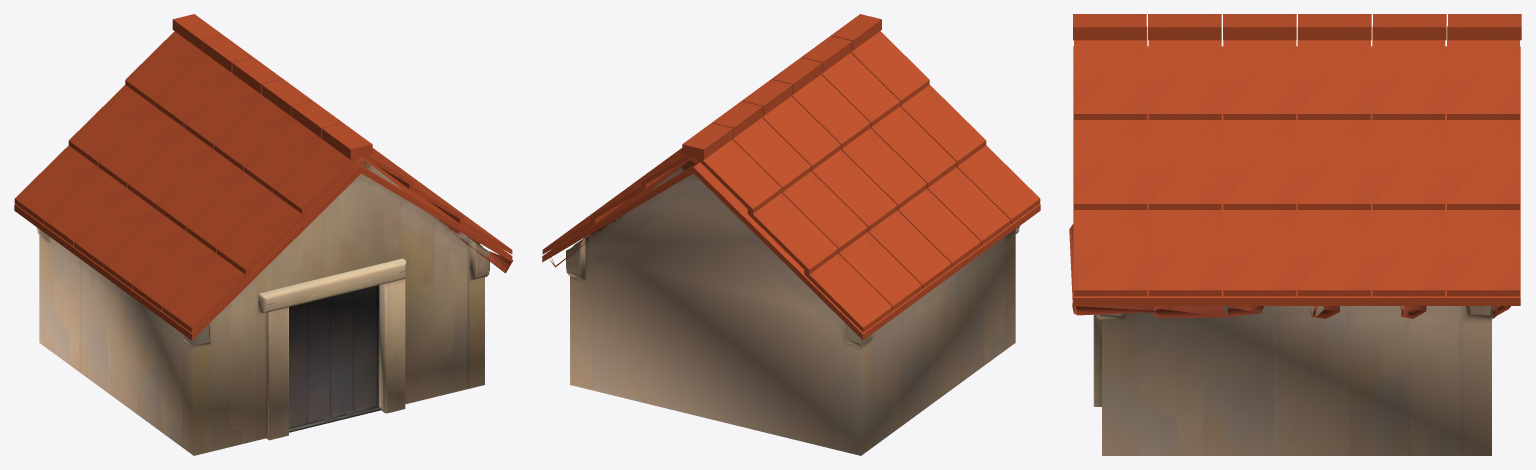
The model's file is barn.glb.
3 renders of one model, left to right at view 1: azimuth 30°, elevation 25°; view 2: azimuth 150°, elevation 25°; view 3: azimuth 270°, elevation 25°, orthographic. The views are drawn at different scales.
Parts seen in each view (by area): view 1: tripo_node_ca86e56c-c080-408d-957f-d0eb0e756dc3; view 2: tripo_node_ca86e56c-c080-408d-957f-d0eb0e756dc3; view 3: tripo_node_ca86e56c-c080-408d-957f-d0eb0e756dc3.
Boxes of the visible parts, box(x1,y1,x2,y2) form: tripo_node_ca86e56c-c080-408d-957f-d0eb0e756dc3: box(14, 14, 513, 455); tripo_node_ca86e56c-c080-408d-957f-d0eb0e756dc3: box(542, 14, 1040, 455); tripo_node_ca86e56c-c080-408d-957f-d0eb0e756dc3: box(1069, 14, 1521, 455).
Bounding box in the file's own units: 4.24 × 3.5 × 4.06.
1 material, 1 textured.
